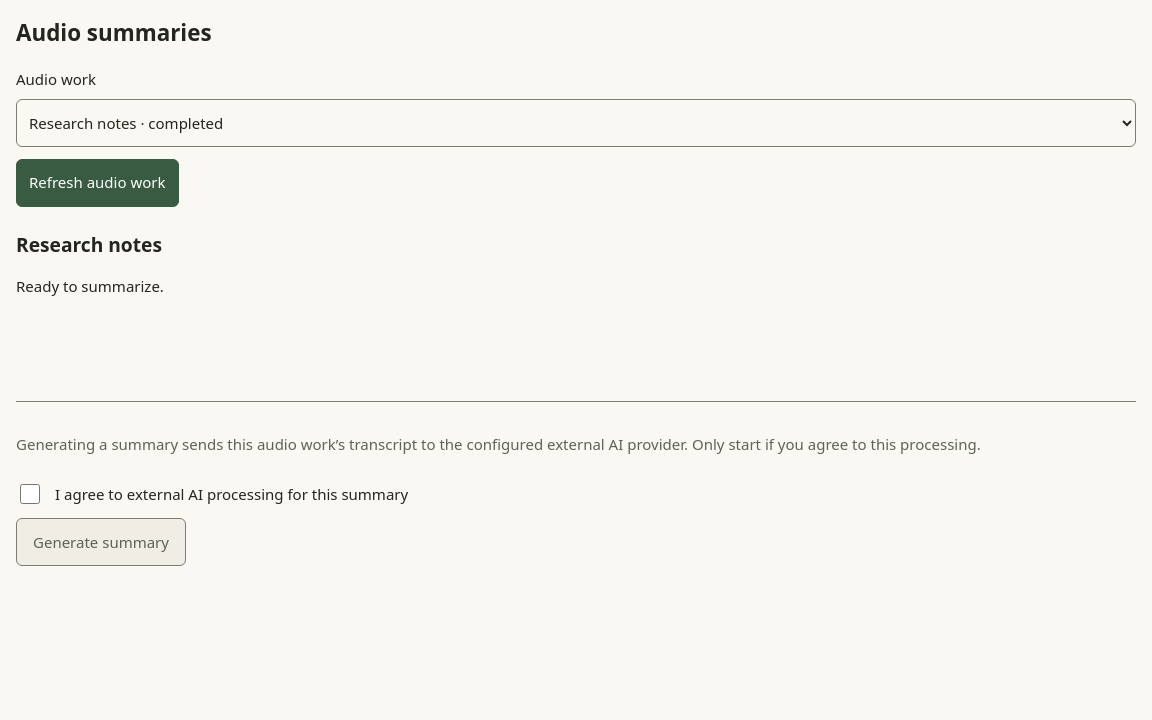
Test case: AudioSummaryMobile › requires a per-action external-processing acknowledgement
Check: the button "Generate summary" is disabled, box x1=16 y1=518 x2=186 y2=566
Click the checkbox labelled "I agree to external AI processing for this summary" at (30, 494), box x1=20 y1=484 x2=40 y2=504
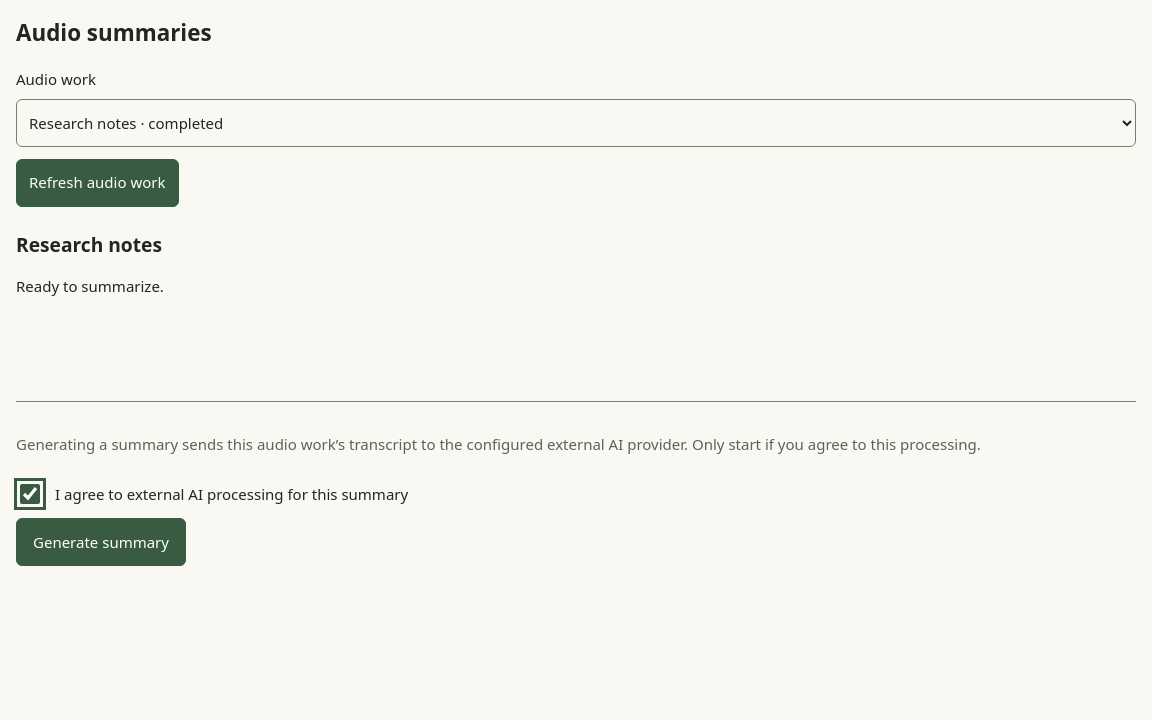
Check: the button "Generate summary" is enabled, box x1=16 y1=518 x2=186 y2=566
